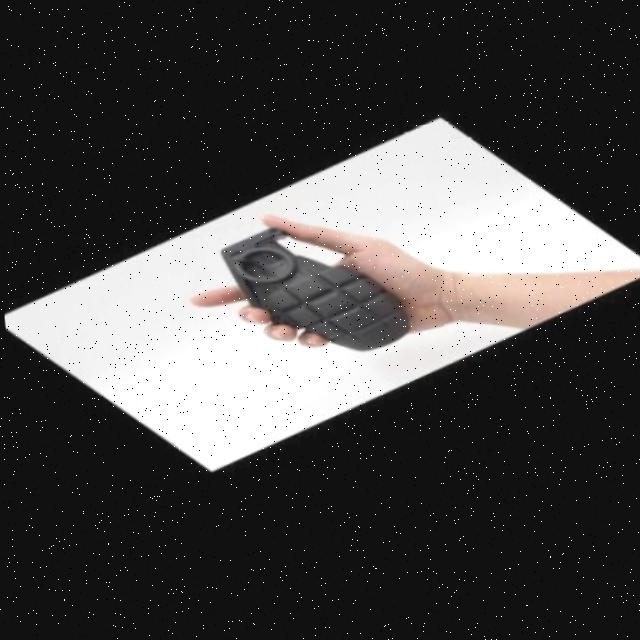grenade: (187, 196, 450, 394)
